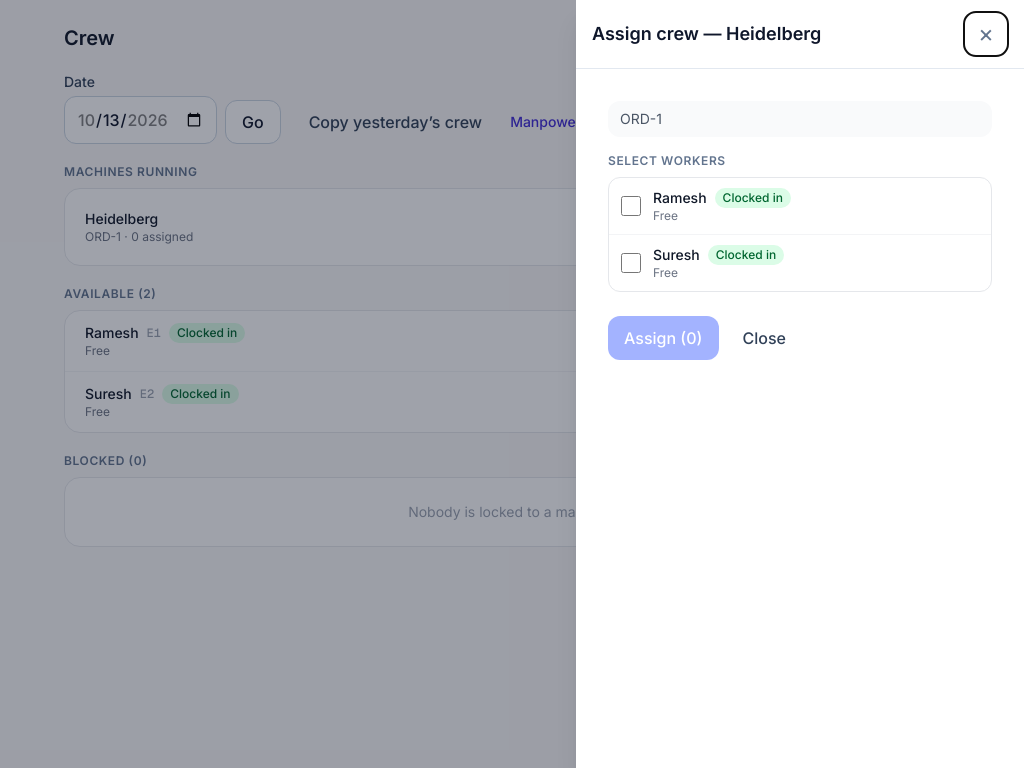
Test: crew board › shows a refusal as text
This screenshot has width=1024, height=768.
Click the checkbox labelled "Ramesh Clocked in Free": {"x": 631, "y": 206} x1=621 y1=196 x2=641 y2=216
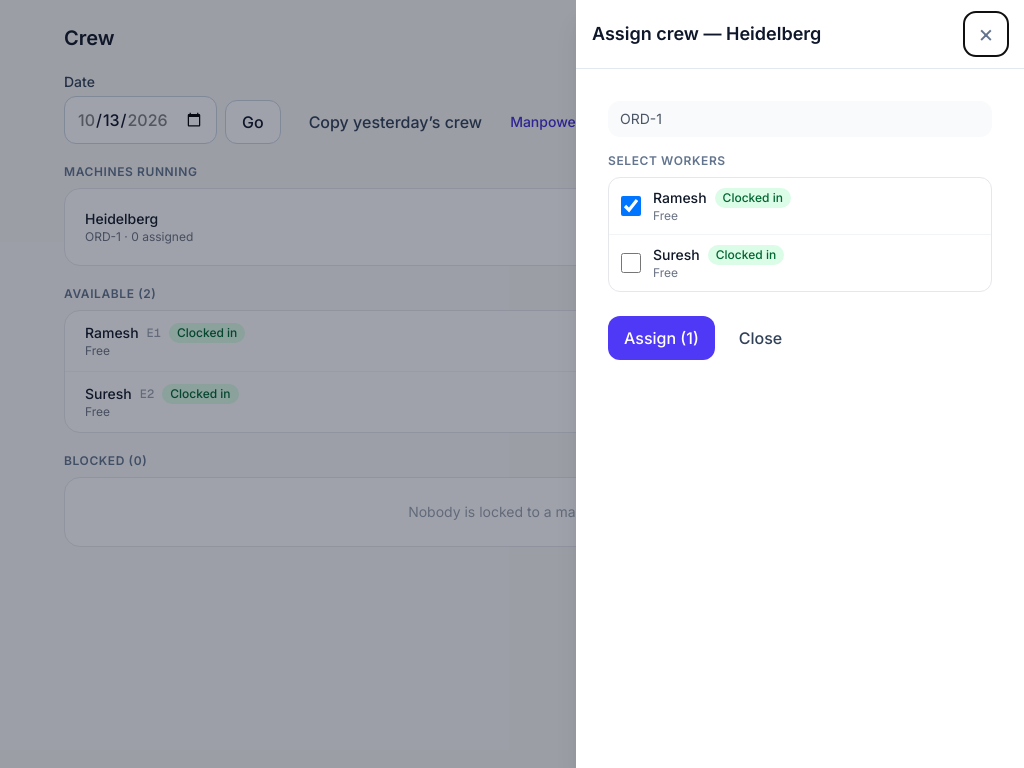
Click the button "Assign (1)": {"x": 661, "y": 338} x1=608 y1=316 x2=715 y2=360
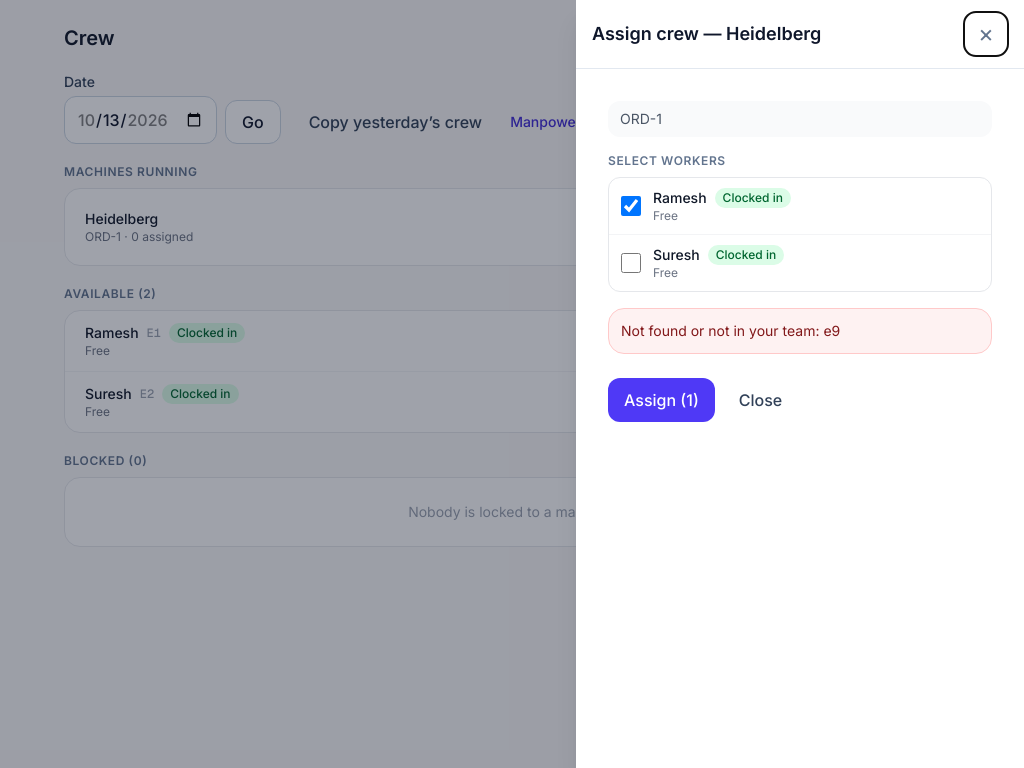
Result: the text "Not found or not in your team: e9" is shown at x1=608 y1=308 x2=992 y2=354
